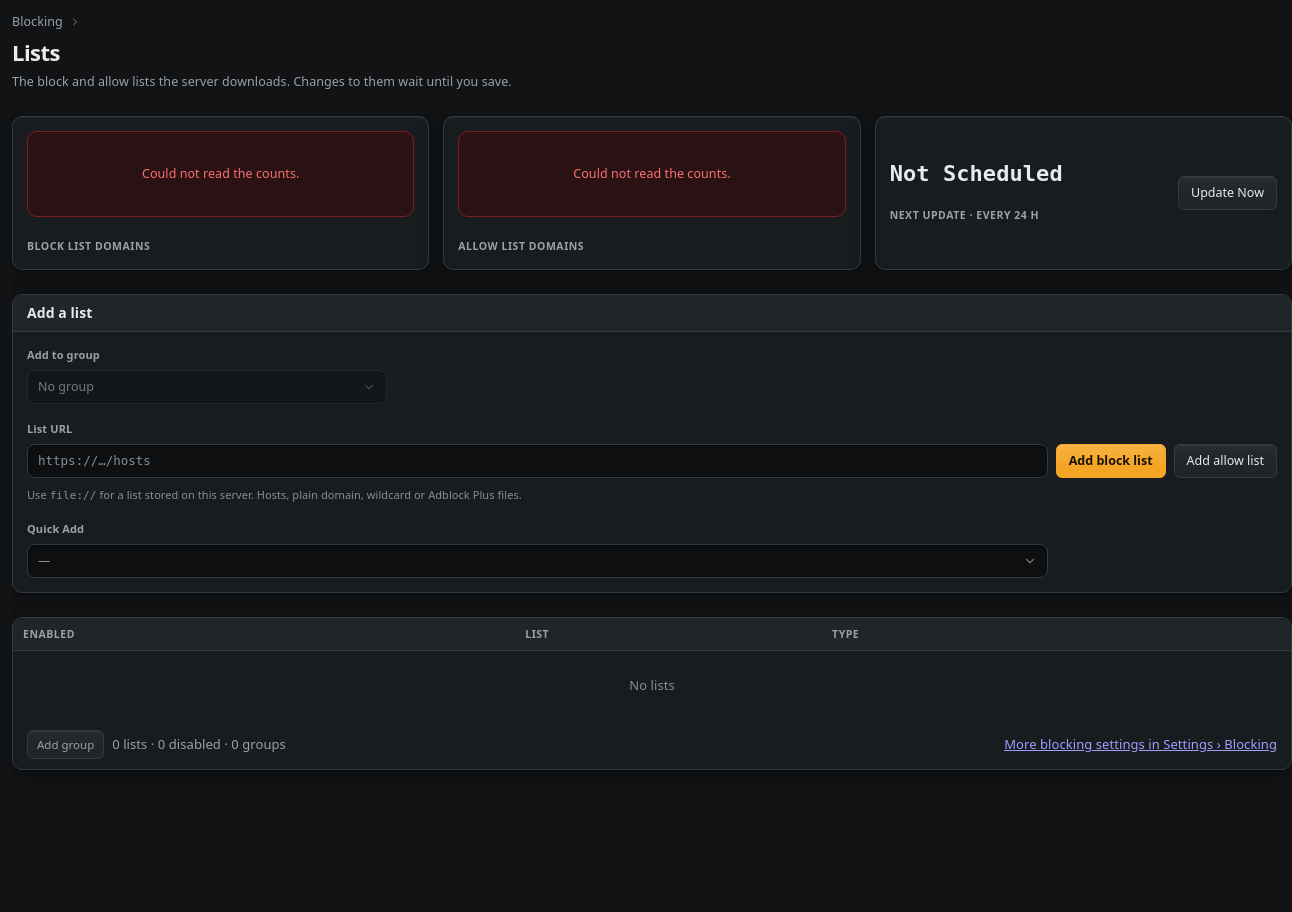
Test: Quick Add with the console catalogue › offers Technitium entries first, then ours under More lists, without repeats
Expected: the table is shown, 13,618 -> 1291,720
Click the dropdown named "Quick Add". click: coordinates (44, 560)
box: 27,544 -> 1048,578
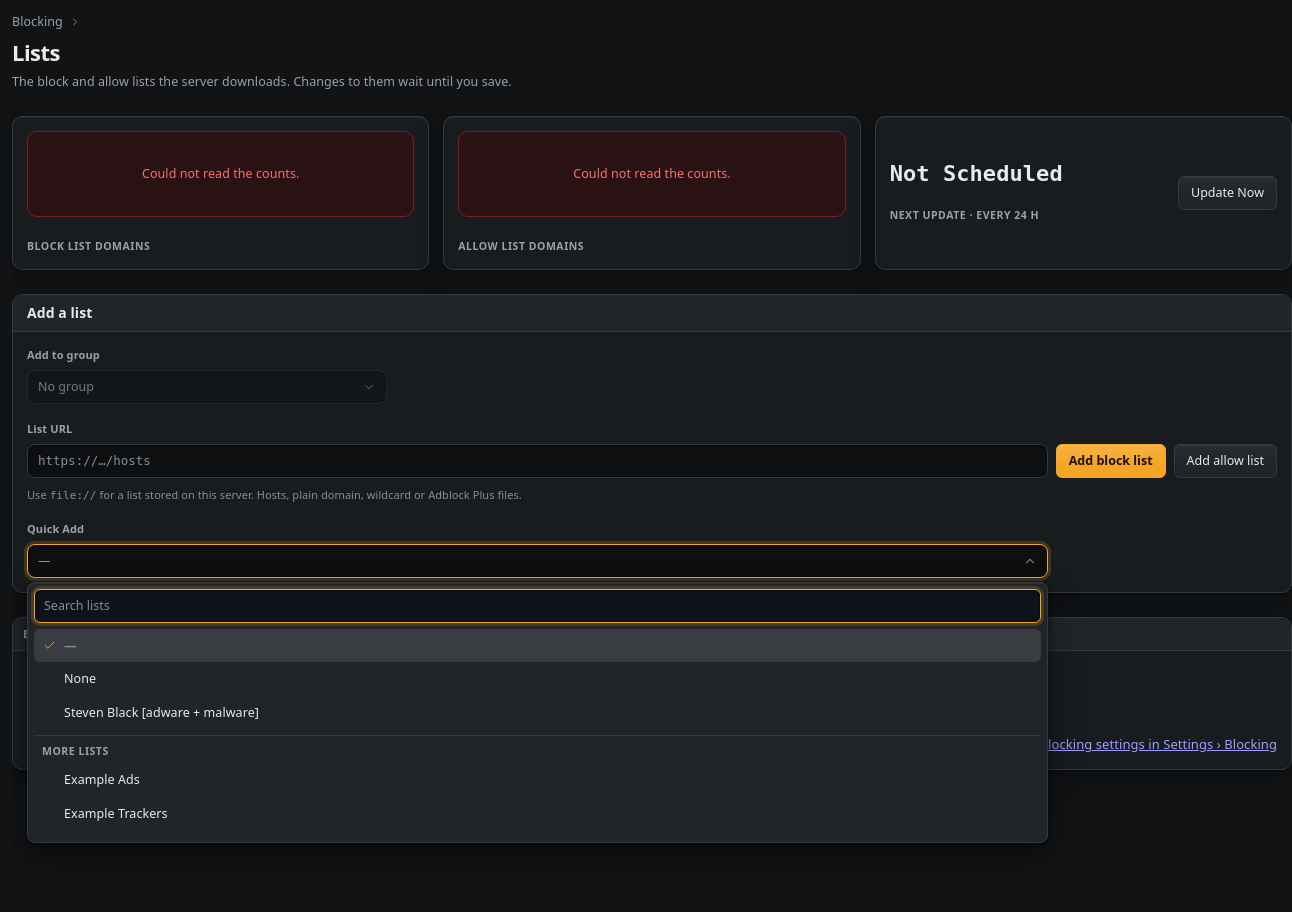
Now the options read "—", "None", "Steven Black [adware + malware]", "Example Ads", "Example Trackers", in this order, box 34,629 -> 1041,662; 64,670 -> 96,687; 64,704 -> 259,721; 64,771 -> 140,788; 64,805 -> 168,822
Now the options read "Example Ads", "Example Trackers", in this order, box 64,771 -> 140,788; 64,805 -> 168,822
